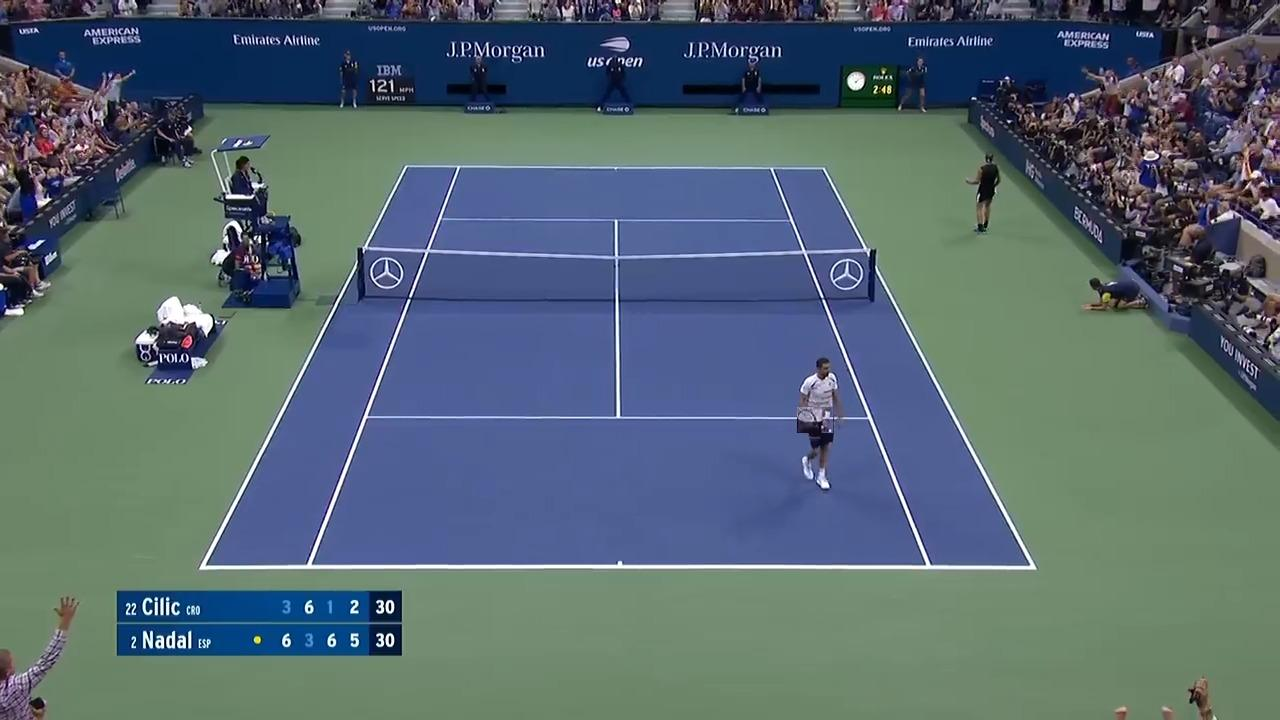tennis racket: (797, 407, 833, 433)
